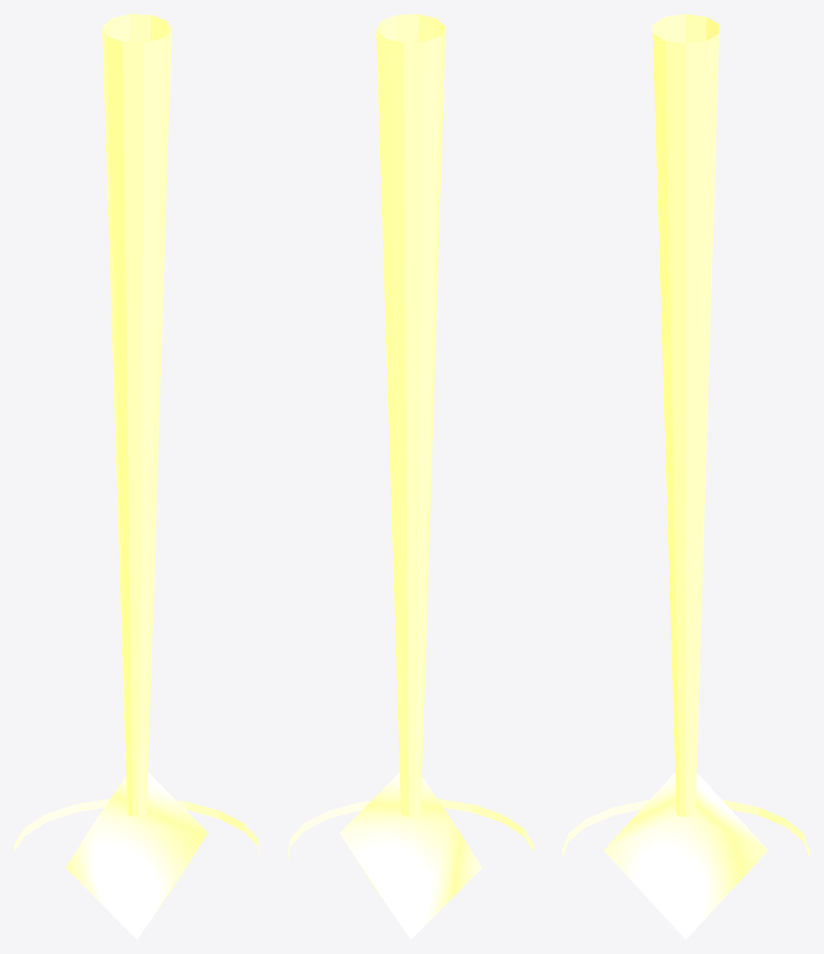
File: beacon.glb
3 renders of one model, left to right at view 1: azimuth 30°, elevation 25°; view 2: azimuth 150°, elevation 25°; view 3: azimuth 270°, elevation 25°, orthographic.
Parts seen in each view (by area): view 1: Beacon; view 2: Beacon; view 3: Beacon.
Boxes of the visible parts, x1,y1,x2,y2 form: Beacon: (14,14,259,939); Beacon: (288,14,533,939); Beacon: (562,14,809,939).
Size of the model in its own units: 6 by 24.4 by 6.
